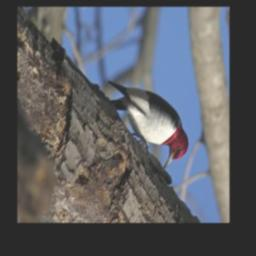Woodpecker: (102, 80, 194, 174)
